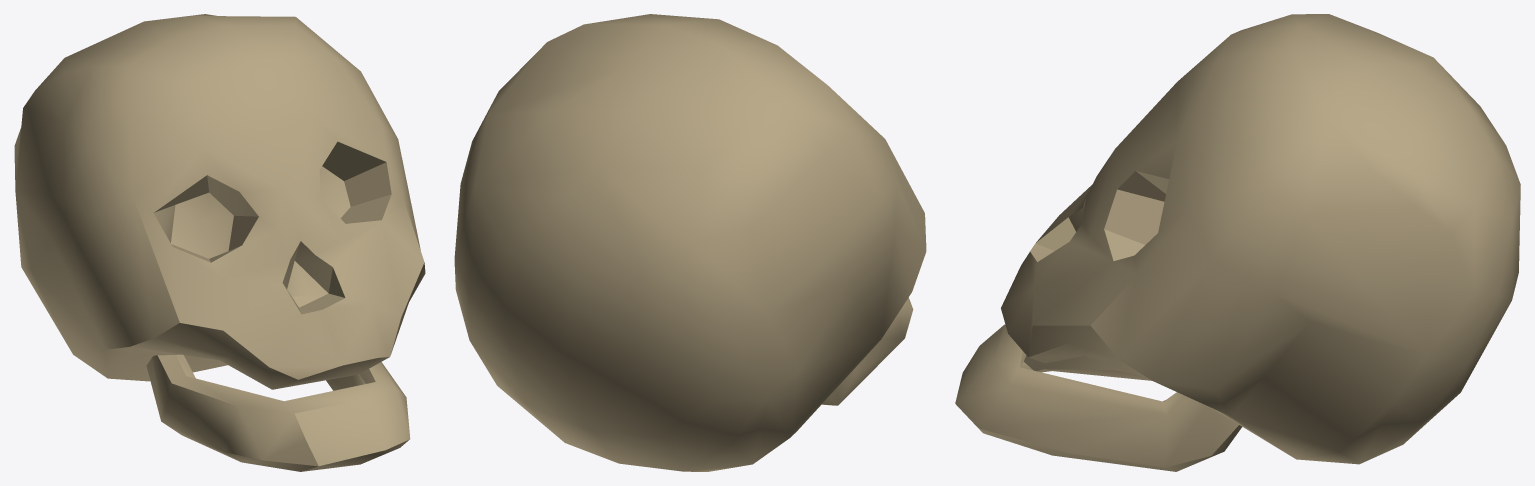
Rendered from Skull.gltf.
3 renders of one model, left to right at view 1: azimuth 30°, elevation 25°; view 2: azimuth 150°, elevation 25°; view 3: azimuth 270°, elevation 25°, orthographic. The views are drawn at different scales.
Visible parts, largest first — view 1: Skull; view 2: Skull; view 3: Skull.
Boxes of the visible parts, x1=… form: Skull: x1=14, y1=14, x2=425, y2=471; Skull: x1=454, y1=14, x2=926, y2=471; Skull: x1=955, y1=14, x2=1520, y2=471.
Size of the model in its own units: 0.4436 by 0.4606 by 0.5966.
